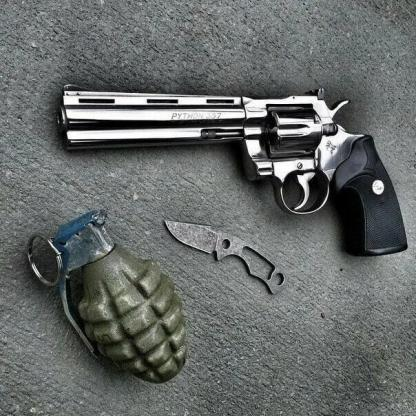Grenade: (26, 206, 191, 384)
Knife: (164, 216, 289, 295)
Pistol: (54, 78, 409, 256)
